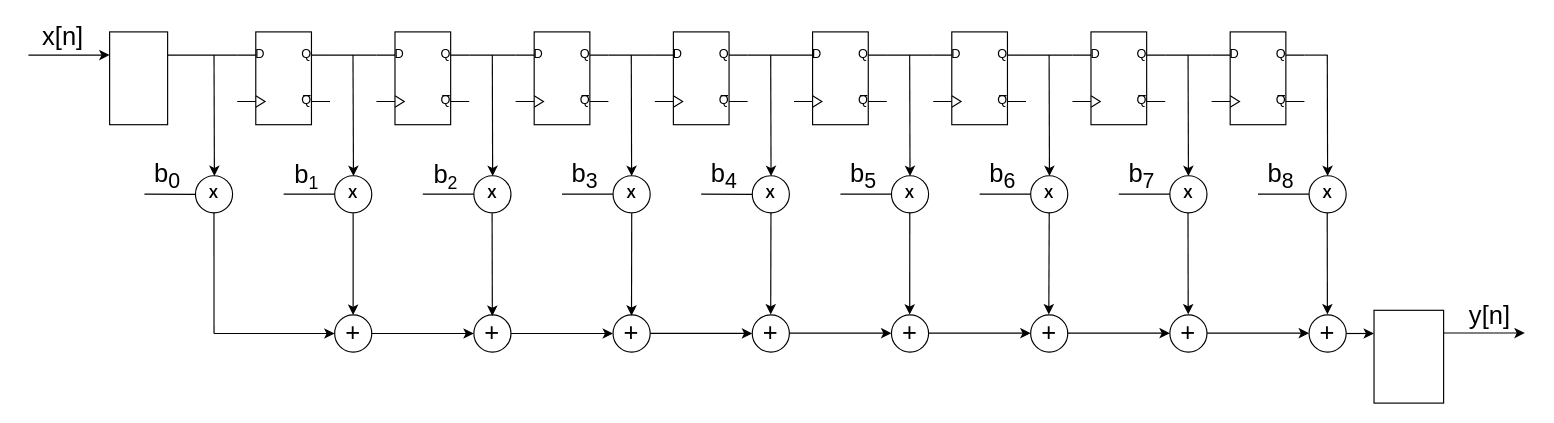
Image size: 1554x423. Some labels were removed from this diagram. The box of each missing label's shape, as (x1, y1, x2, y2) in pixels:
IN REG: (108, 31, 168, 125)
OUT REG: (1373, 309, 1444, 403)
